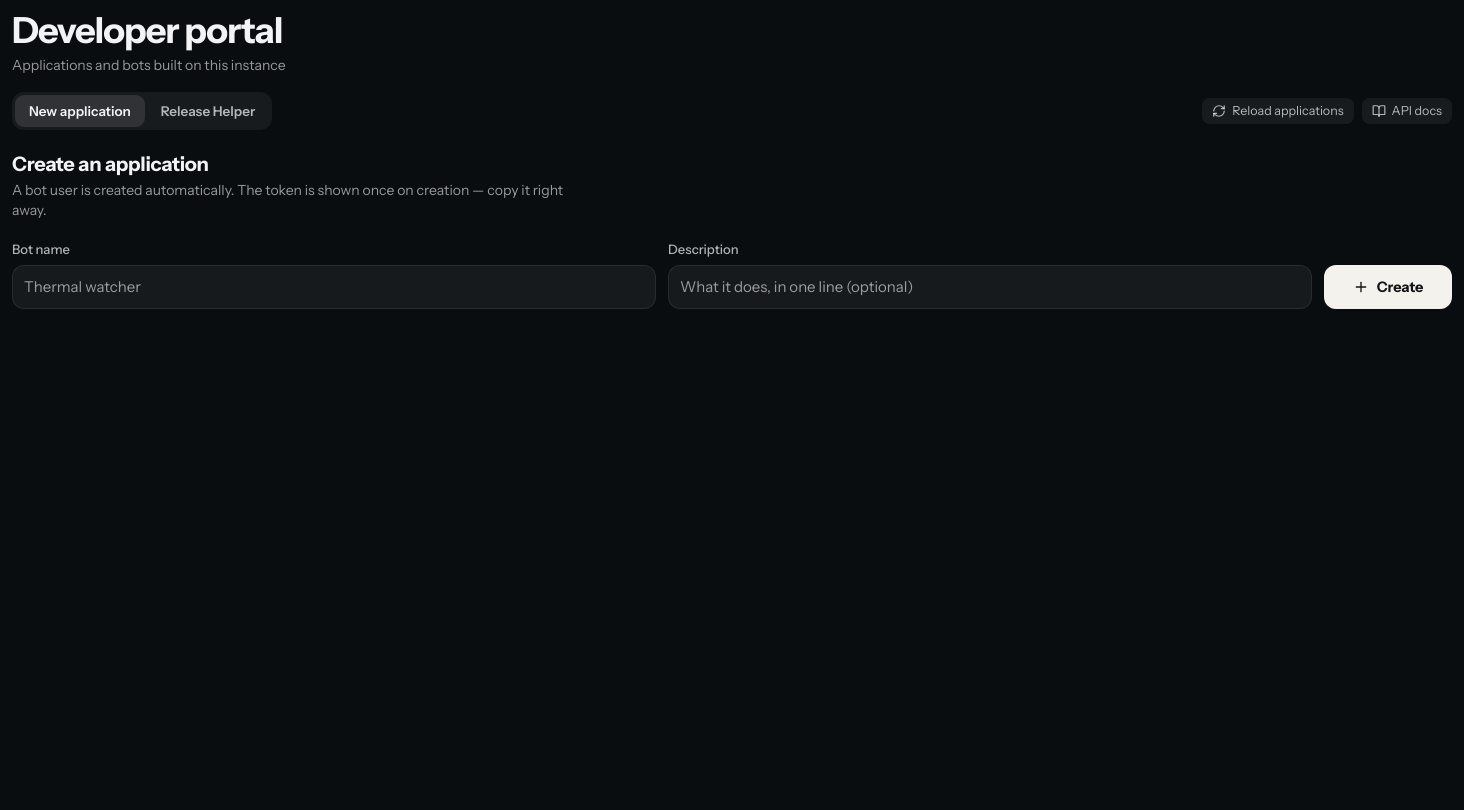
Test: DeveloperPage metrics › shows clipboard error details when token copy fails
This screenshot has width=1464, height=810.
Click the tab "Release Helper" at x=208, y=111, box left=147, top=95, right=269, bottom=127
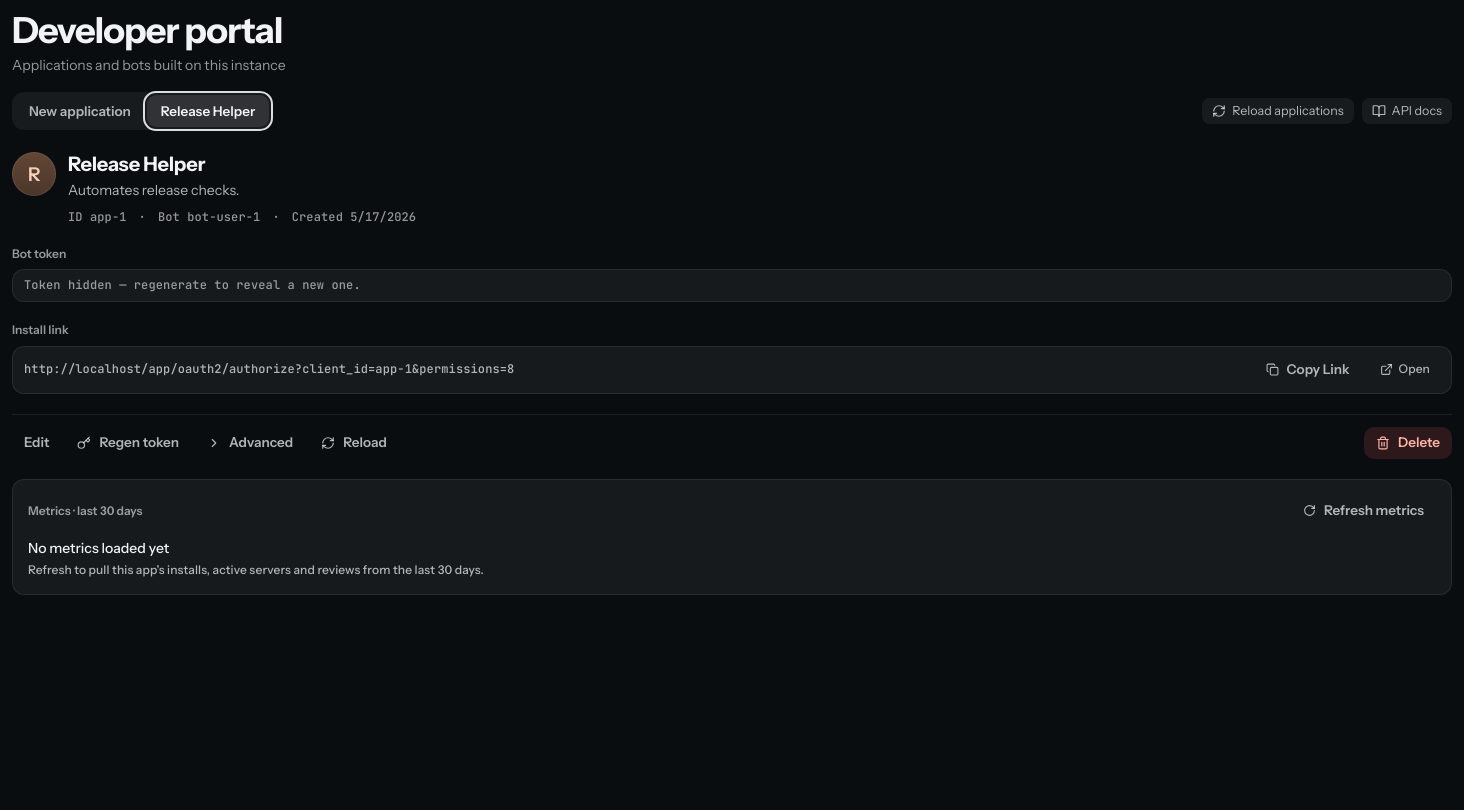
Click the button "Regen token" at x=128, y=443, box left=65, top=427, right=191, bottom=459
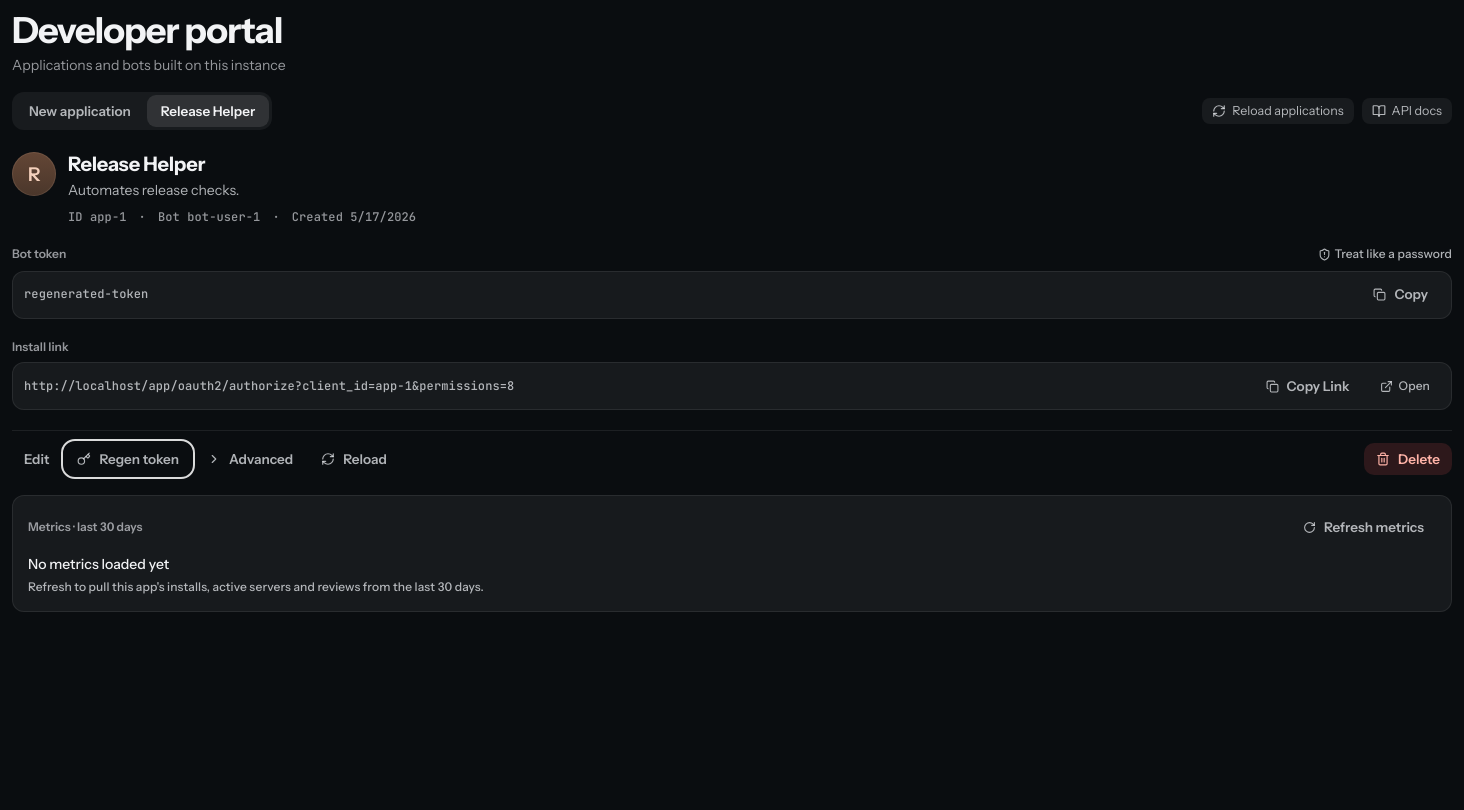
Expected: the text "regenerated-token" is shown, left=24, top=286, right=148, bottom=302
Click the button with aria-label "Copy bot token" at x=1401, y=295, box left=1362, top=279, right=1440, bottom=311
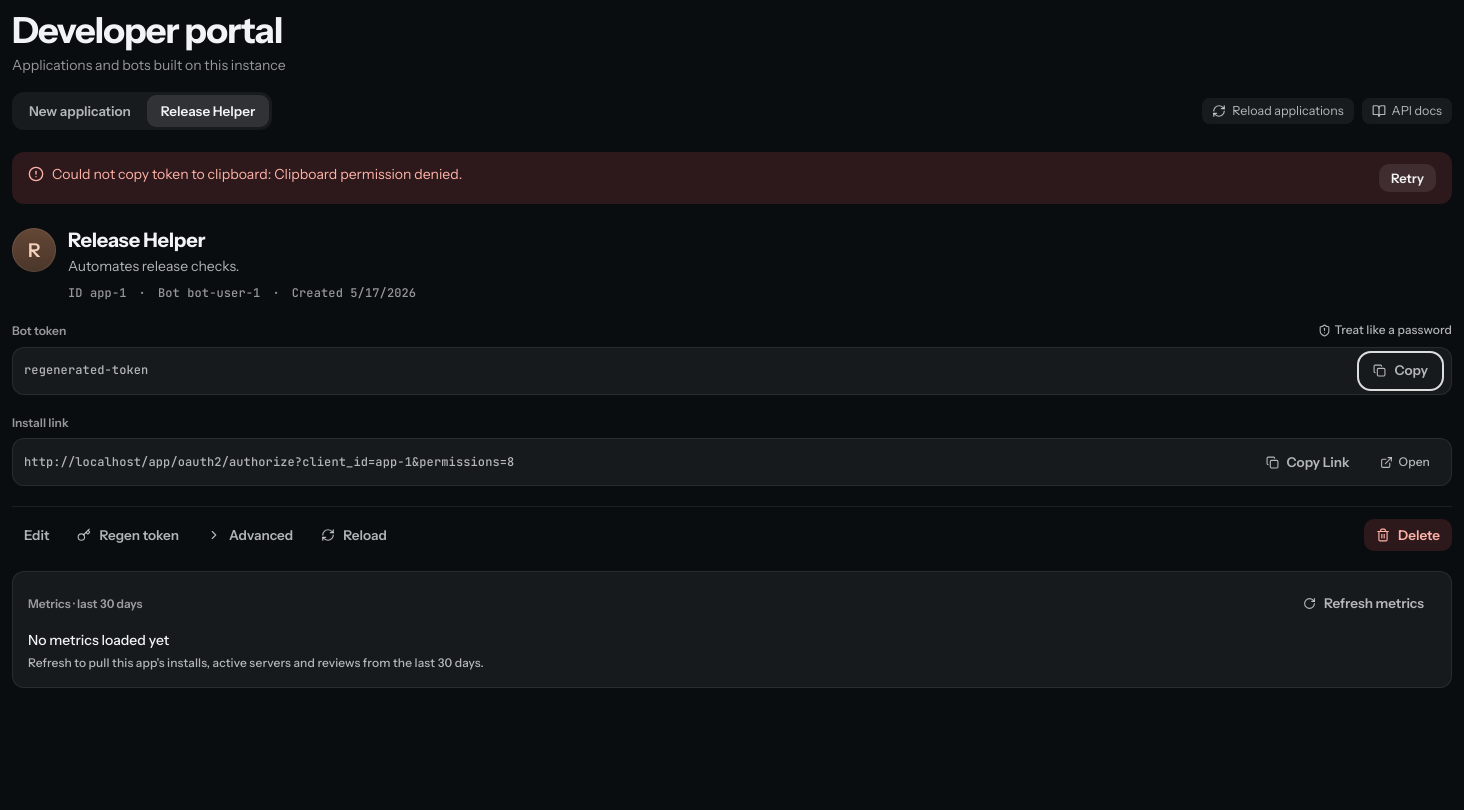
Expected: the text "Could not copy token to clipboard: Clipboard permission denied." is shown, left=52, top=164, right=462, bottom=186
